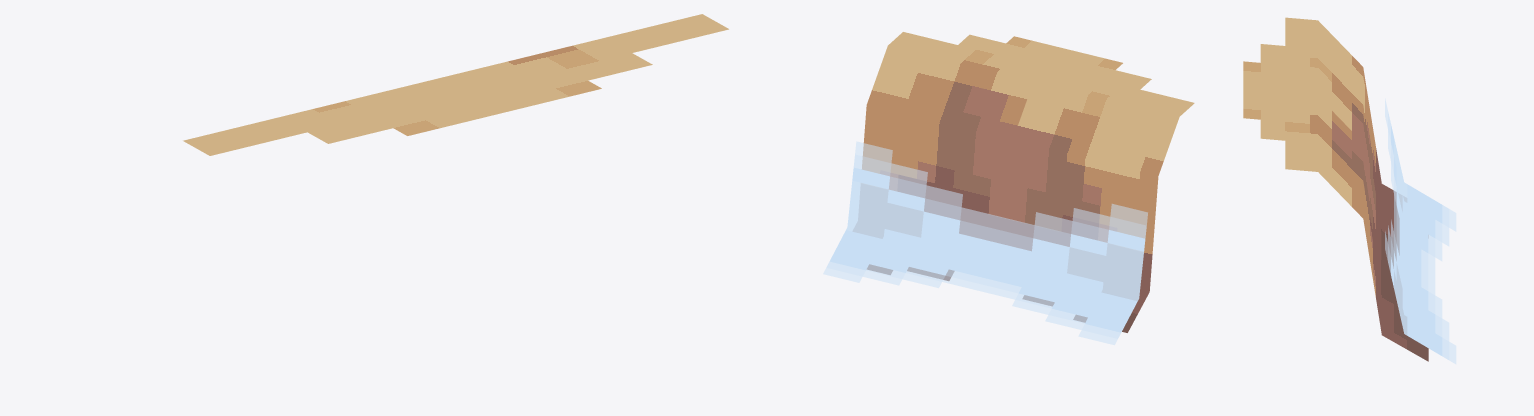
The picture shows the model from 3 angles, left to right: view 1: azimuth 30°, elevation 25°; view 2: azimuth 150°, elevation 25°; view 3: azimuth 270°, elevation 25°; orthographic projection. The views are drawn at different scales.
Bounding box in the file's own units: 1 × 0.7266 × 0.7695.
2 materials, 2 textured.
